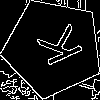K: (28, 23, 84, 72)
